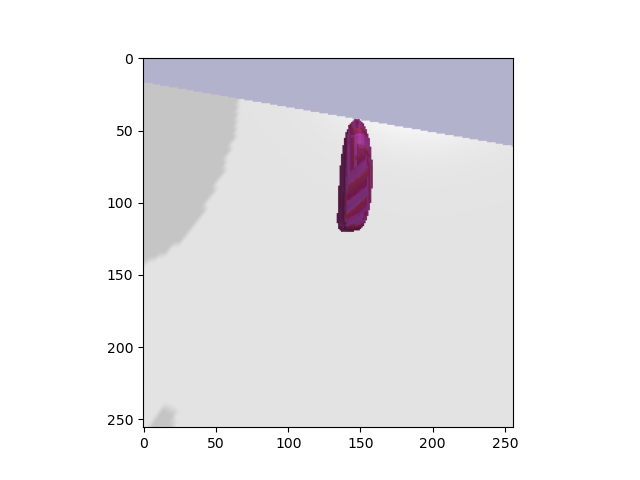v249b387_105: (327, 118, 387, 239)
